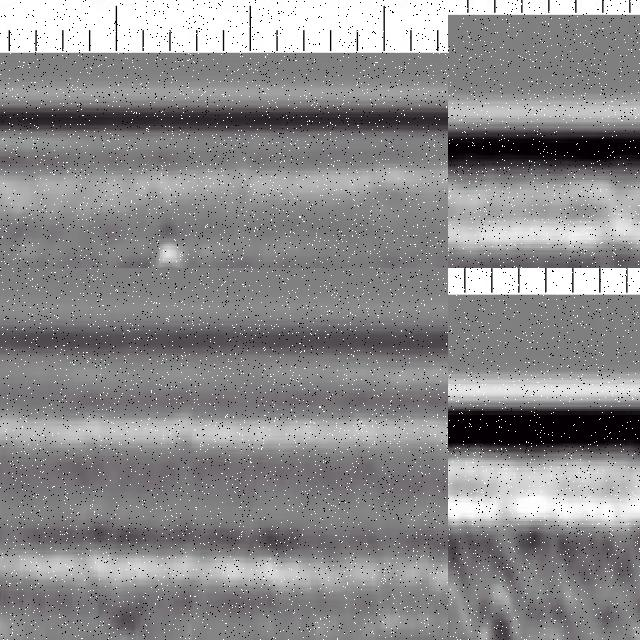crack: (135, 182, 197, 269)
loose: (453, 544, 542, 640)
